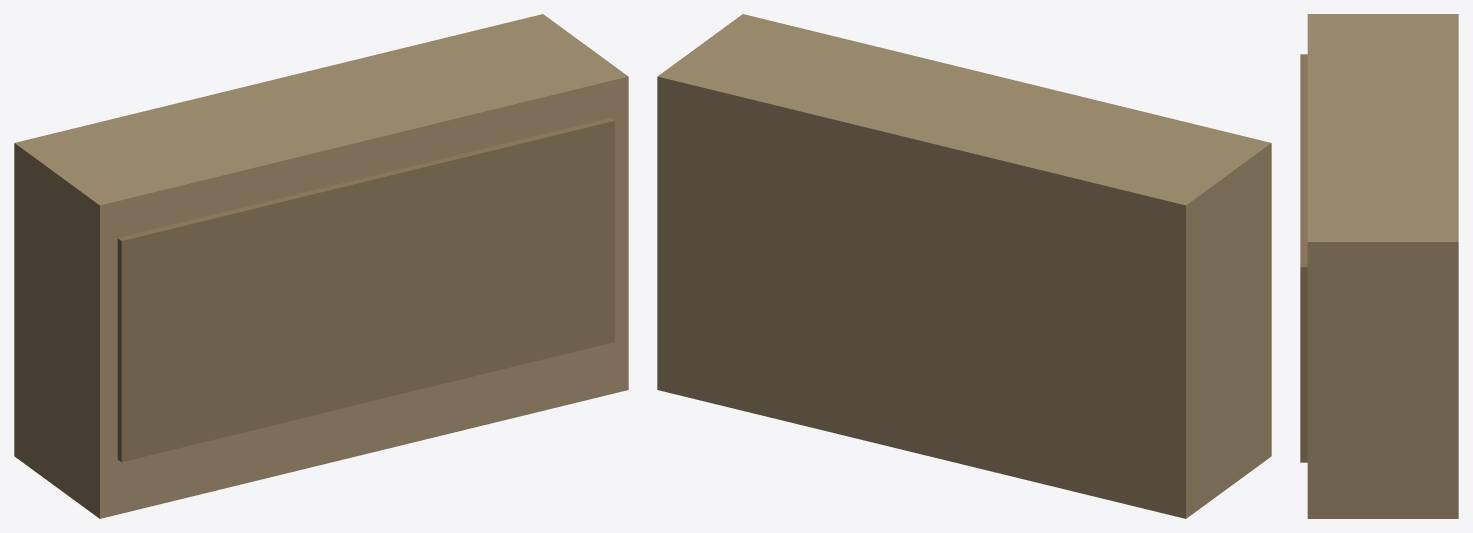
The model's file is sideboard.glb.
3 views of the same model, side by side, from view 1: azimuth 30°, elevation 25°; view 2: azimuth 150°, elevation 25°; view 3: azimuth 270°, elevation 25° (orthographic). The views are drawn at different scales.
Visible parts, largest first — view 1: sideboard; view 2: sideboard; view 3: sideboard.
Part boxes in pixels (left/top/right/bottom): sideboard: left=14, top=14, right=628, bottom=518; sideboard: left=657, top=14, right=1271, bottom=518; sideboard: left=1300, top=14, right=1458, bottom=518.
Bounding box in the file's own units: 1.5 × 0.85 × 0.44.
